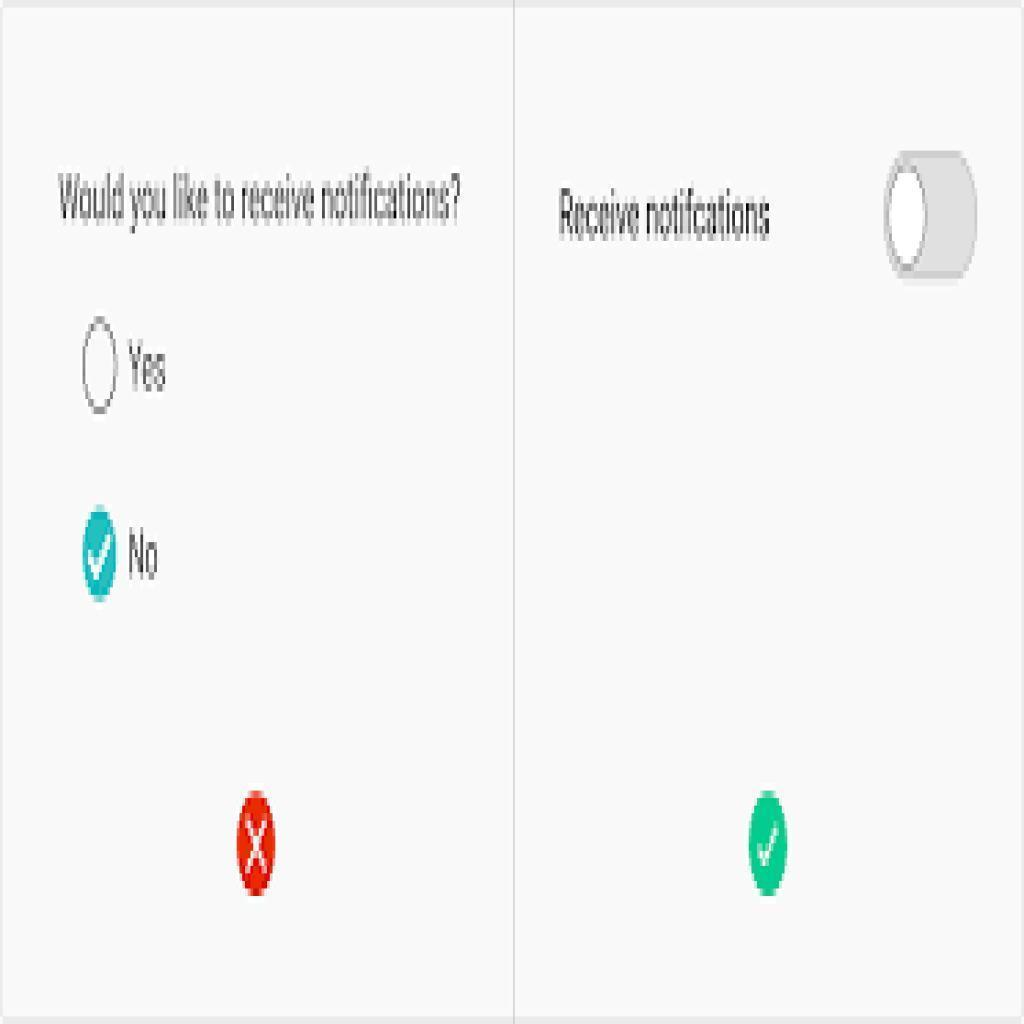label: (55, 171, 468, 237), (555, 179, 779, 246), (123, 522, 168, 588), (129, 339, 172, 395)
radio: (81, 504, 122, 605), (80, 316, 120, 415)
switch: (884, 150, 979, 280)
